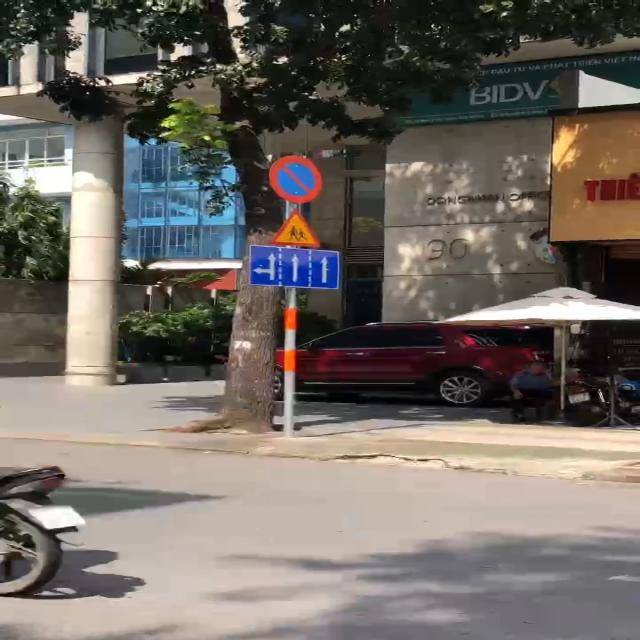Bien bao cam do xe: (266, 154, 334, 206)
Bien bao tre em: (267, 206, 328, 248)
